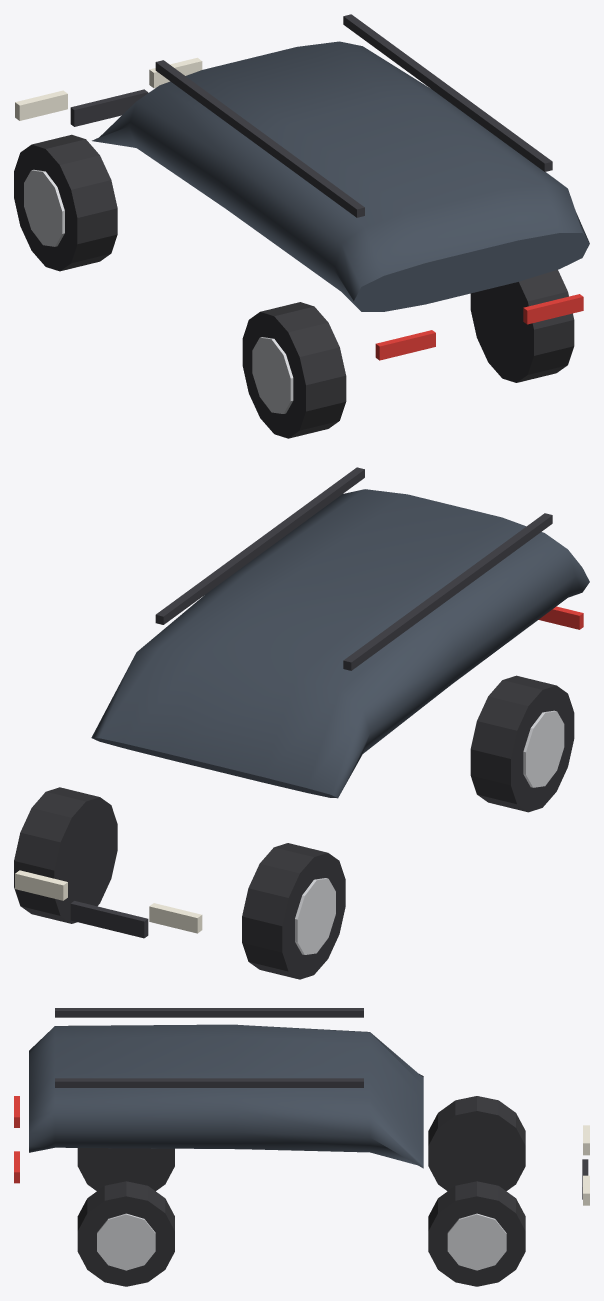
The model's file is suv_trim.glb.
The picture shows the model from 3 angles, top to bottom: view 1: azimuth 30°, elevation 25°; view 2: azimuth 150°, elevation 25°; view 3: azimuth 270°, elevation 25°; orthographic projection. The views are drawn at different scales.
Size of the model in its own units: 2.04 by 1.78 by 4.84.
